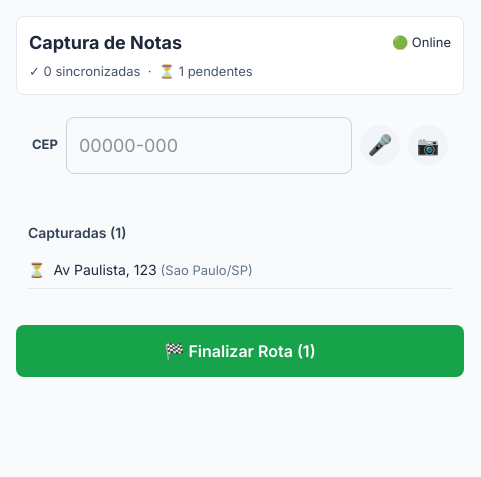
Scenario: CapturaNotasPage — botao Finalizar › aviso aparece quando finaliza com notas pendentes
This screenshot has width=481, height=477.
Expected: the heading "Capturadas (1)" is shown, x1=28 y1=224 x2=126 y2=240
Click the button "🏁 Finalizar Rota (1)" at (240, 351), box x1=16 y1=325 x2=464 y2=377
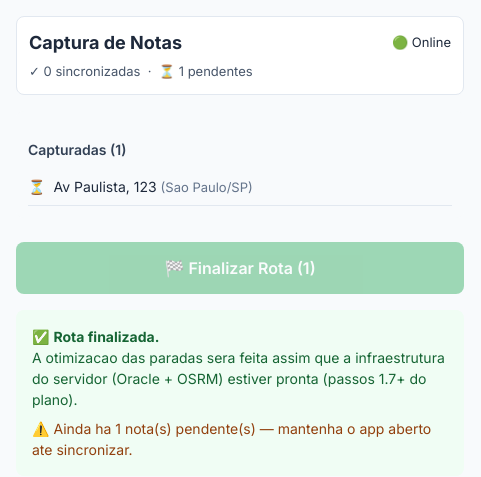
Expected: the text "Ainda ha 1 nota(s) pendente" is shown, x1=32 y1=418 x2=448 y2=460
